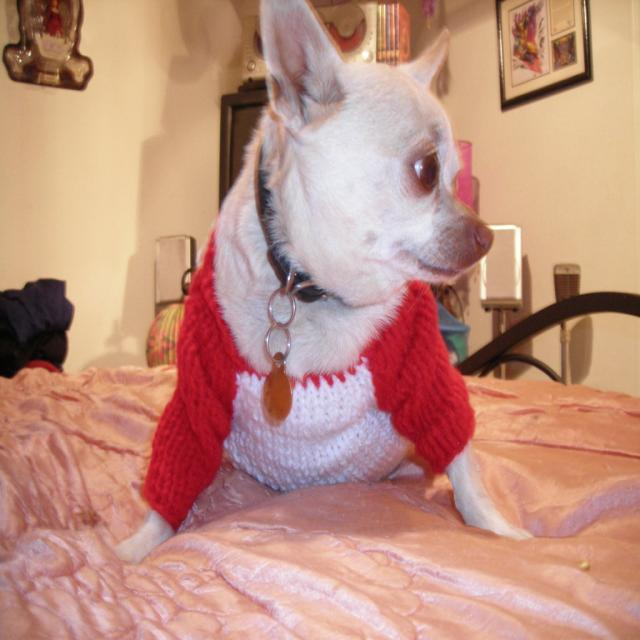Dog: (112, 0, 538, 564)
